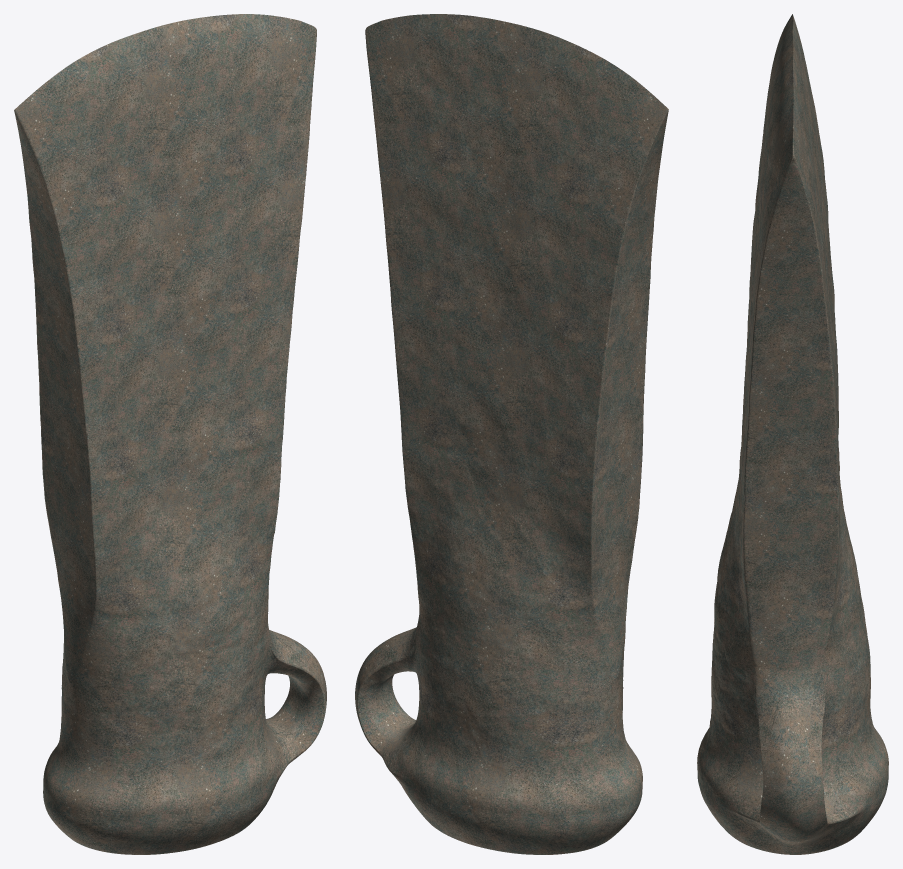
The model's file is sekira.glb.
The picture shows the model from 3 angles, left to right: view 1: azimuth 30°, elevation 25°; view 2: azimuth 150°, elevation 25°; view 3: azimuth 270°, elevation 25°; orthographic projection. The views are drawn at different scales.
Parts seen in each view (by area): view 1: Plane.002; view 2: Plane.002; view 3: Plane.002.
Boxes of the visible parts, x1,y1,x2,y2 form: Plane.002: (14, 14, 326, 854); Plane.002: (355, 14, 668, 854); Plane.002: (697, 14, 888, 854).
Bounding box in the file's own units: 2.43 × 5.95 × 1.34.
Materials: 1 (1 with a texture image).
